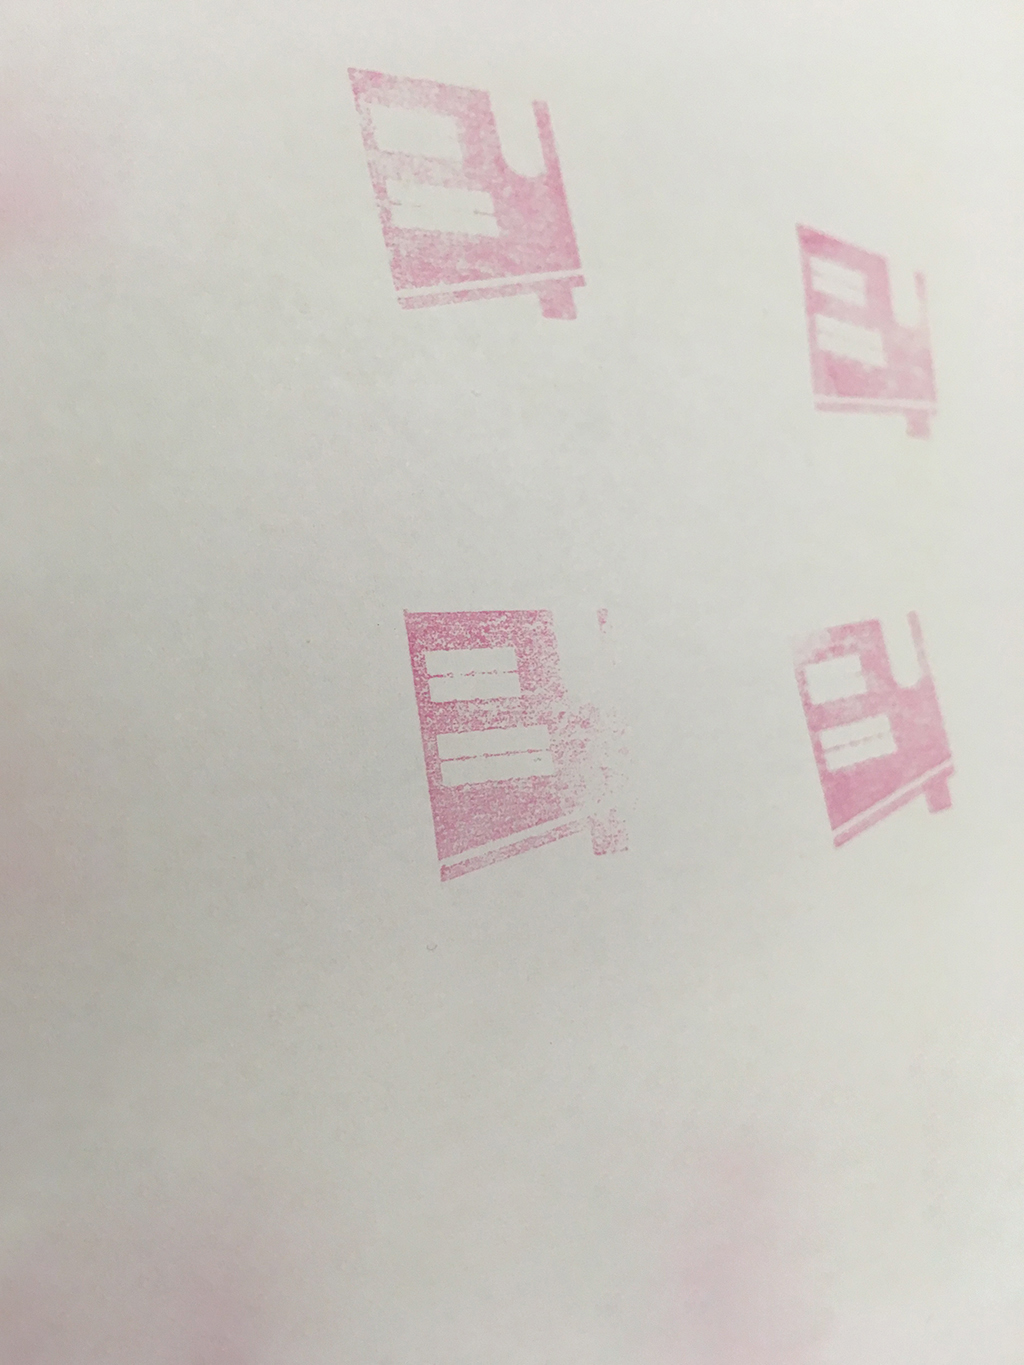house: (394, 582, 654, 892), (331, 54, 602, 347), (763, 594, 981, 850), (779, 207, 959, 447)
